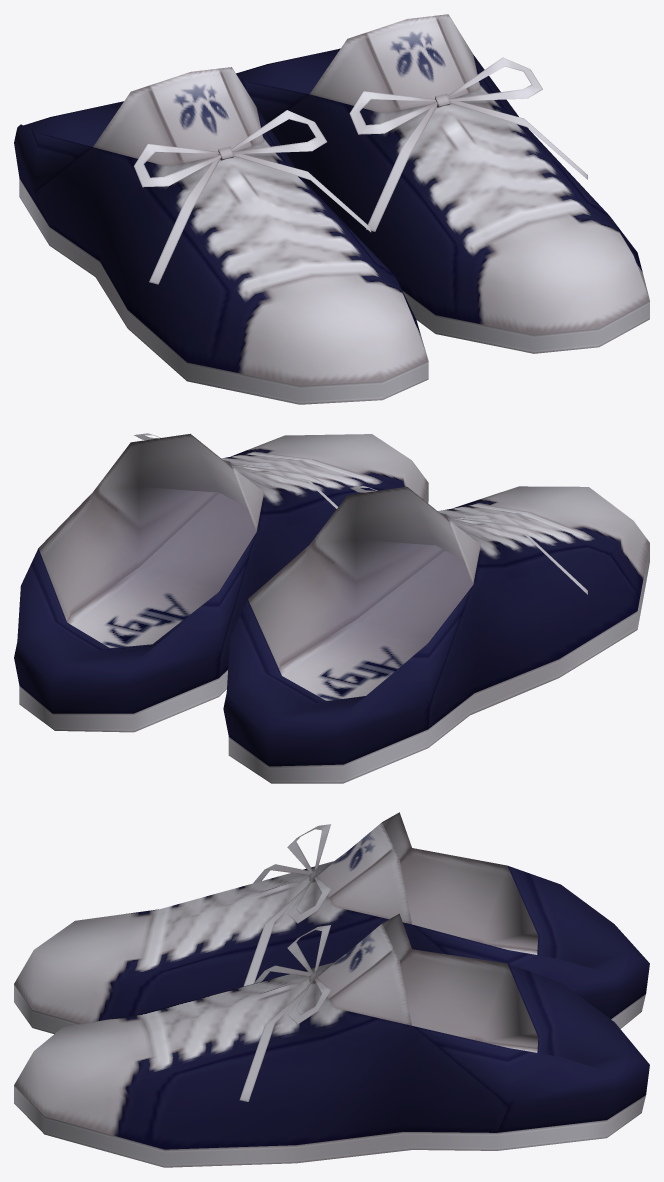
The model's file is set_sneakers_02_b.fbx.
The picture shows the model from 3 angles, top to bottom: view 1: azimuth 30°, elevation 25°; view 2: azimuth 150°, elevation 25°; view 3: azimuth 270°, elevation 25°; orthographic projection. The views are drawn at different scales.
Parts seen in each view (by area): view 1: sneakers_02_b_R, sneakers_02_b_L; view 2: sneakers_02_b_R, sneakers_02_b_L; view 3: sneakers_02_b_L, sneakers_02_b_R.
Part boxes in pixels (x1,y1,x2,y2): sneakers_02_b_R: (14,67,428,404); sneakers_02_b_L: (236,14,649,353); sneakers_02_b_R: (223,486,649,783); sneakers_02_b_L: (14,433,428,732); sneakers_02_b_L: (14,913,649,1167); sneakers_02_b_R: (14,812,649,1033).
Size of the model in its own units: 19.19 by 8.05 by 24.48.
